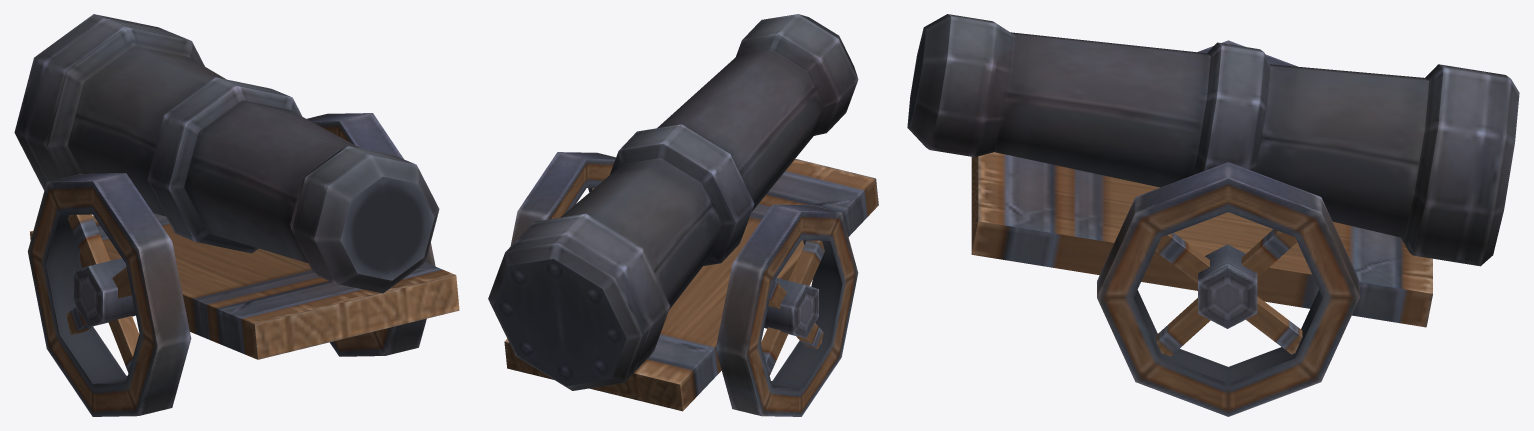
The model's file is cannon.FBX.
The picture shows the model from 3 angles, left to right: view 1: azimuth 30°, elevation 25°; view 2: azimuth 150°, elevation 25°; view 3: azimuth 270°, elevation 25°; orthographic projection. The views are drawn at different scales.
Visible parts, largest first — view 1: Object036; view 2: Object036; view 3: Object036.
Part boxes in pixels (box(x1,y1,x2,y2)): Object036: box(14, 14, 459, 416); Object036: box(488, 14, 878, 416); Object036: box(907, 14, 1519, 416).
Size of the model in its own units: 42.14 by 44.98 by 75.3.
